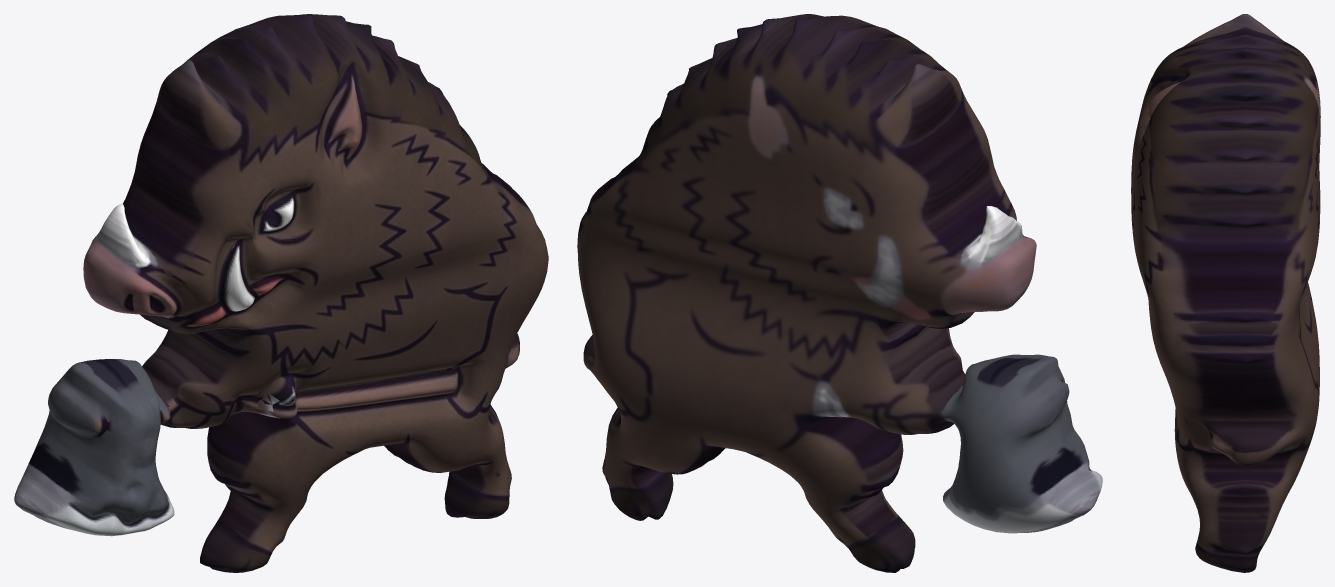
Rendered from Enemy_04_野猪精.glb.
3 views of the same model, side by side, from view 1: azimuth 30°, elevation 25°; view 2: azimuth 150°, elevation 25°; view 3: azimuth 270°, elevation 25° (orthographic). The views are drawn at different scales.
Visible parts, largest first — view 1: enemy_boar; view 2: enemy_boar; view 3: enemy_boar.
Boxes of the visible parts, x1,y1,x2,y2 form: enemy_boar: (14, 14, 548, 572); enemy_boar: (577, 14, 1102, 572); enemy_boar: (1131, 14, 1320, 572).
Bounding box in the file's own units: 2.37 × 2.41 × 0.9055.
Materials: 1 (1 with a texture image).
